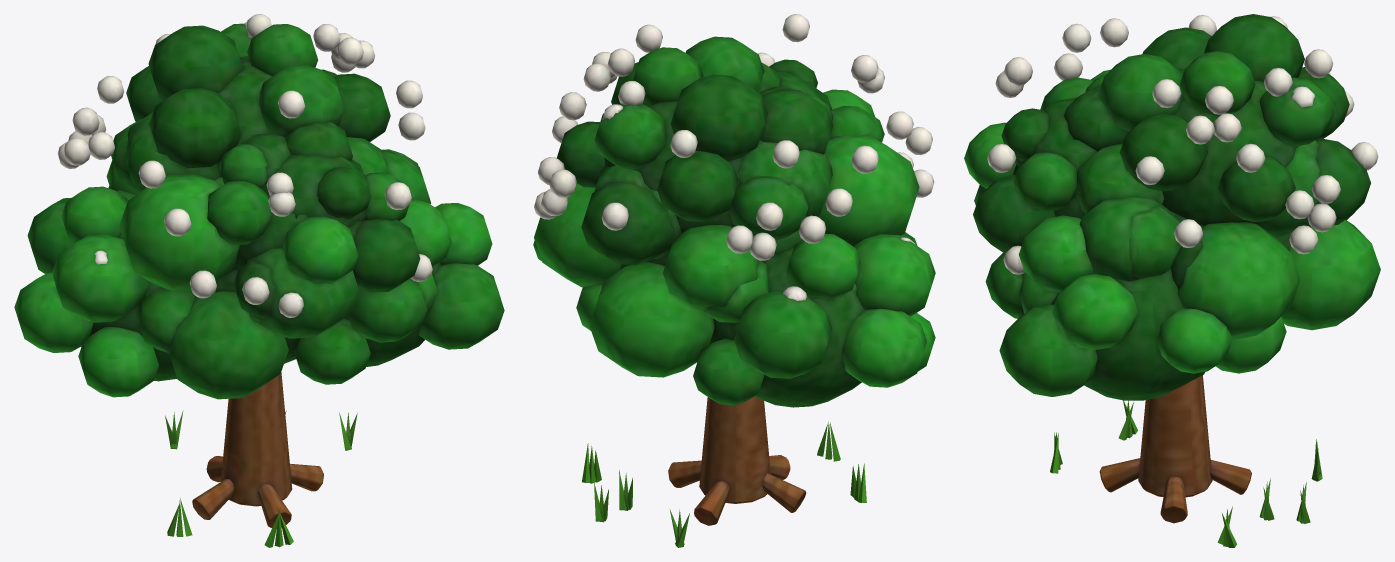
Rendered from kumquat_tree.glb.
3 renders of one model, left to right at view 1: azimuth 30°, elevation 25°; view 2: azimuth 150°, elevation 25°; view 3: azimuth 270°, elevation 25°, orthographic. The views are drawn at different scales.
Visible parts, largest first — view 1: crown, kumquat_tree; view 2: crown, kumquat_tree; view 3: crown, kumquat_tree.
Boxes of the visible parts, x1,y1,x2,y2 form: crown: (14, 14, 504, 399); kumquat_tree: (165, 372, 357, 547); crown: (533, 14, 935, 407); kumquat_tree: (582, 396, 866, 547); crown: (964, 14, 1380, 400); kumquat_tree: (1050, 375, 1322, 547).
Bounding box in the file's own units: 1.04 × 1.11 × 0.9003.
Materials: 1 (1 with a texture image).
